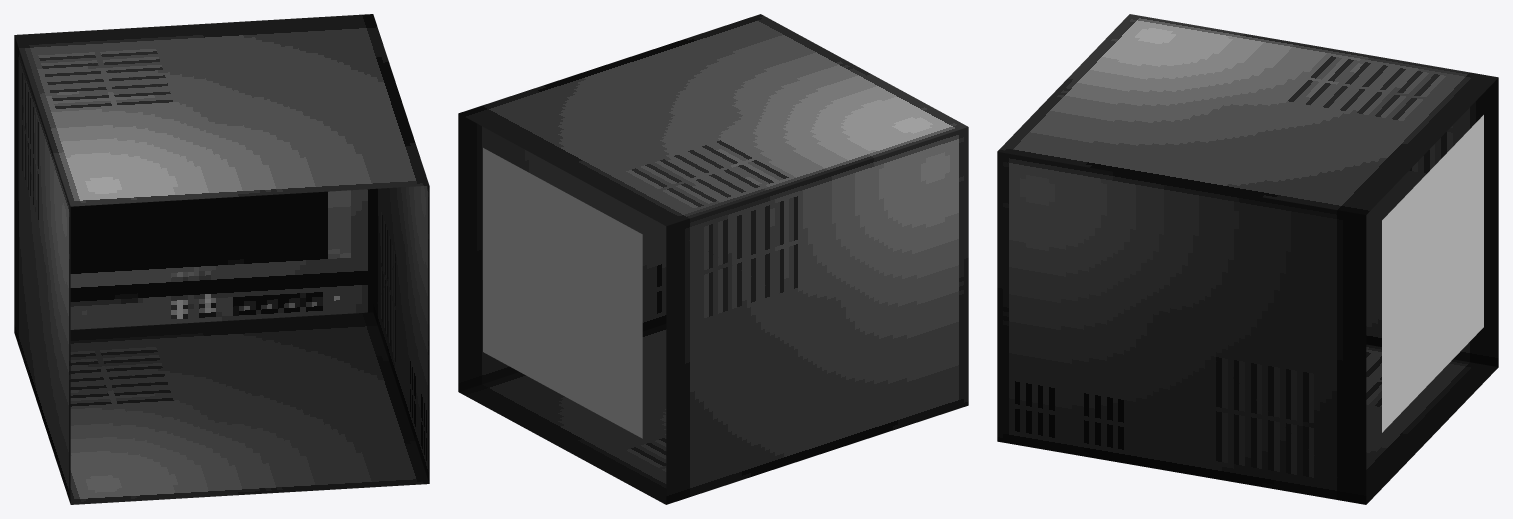
The model's file is primary_075.glb.
3 renders of one model, left to right at view 1: azimuth 30°, elevation 25°; view 2: azimuth 150°, elevation 25°; view 3: azimuth 270°, elevation 25°, orthographic. The views are drawn at different scales.
Visible parts, largest first — view 1: Object; view 2: Object; view 3: Object.
Boxes of the visible parts, <box> form: Object: <box>14,14,429,504</box>; Object: <box>458,14,968,504</box>; Object: <box>997,14,1498,504</box>.
Bounding box in the file's own units: 0.9112 × 0.6122 × 0.9602.
7 materials, 7 textured.
